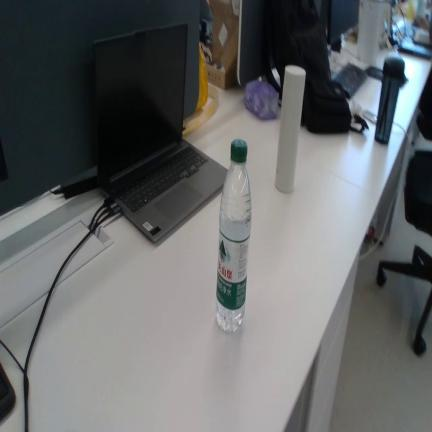bottle: (216, 139, 251, 332)
